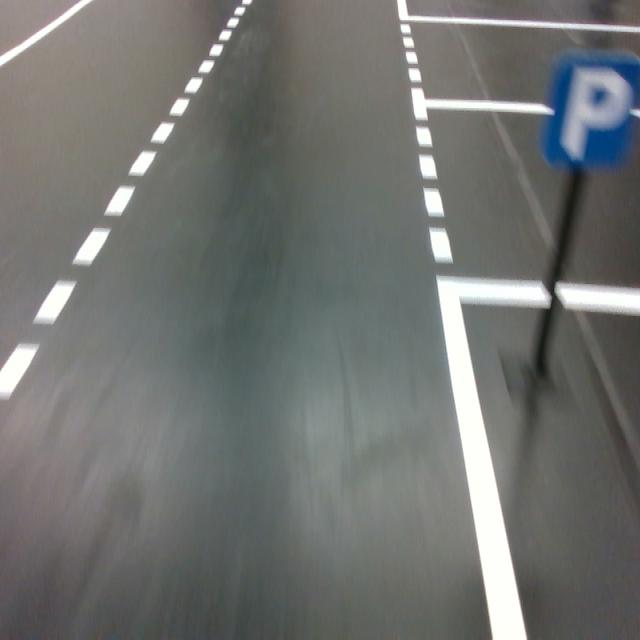parking-sign: (536, 47, 640, 171)
